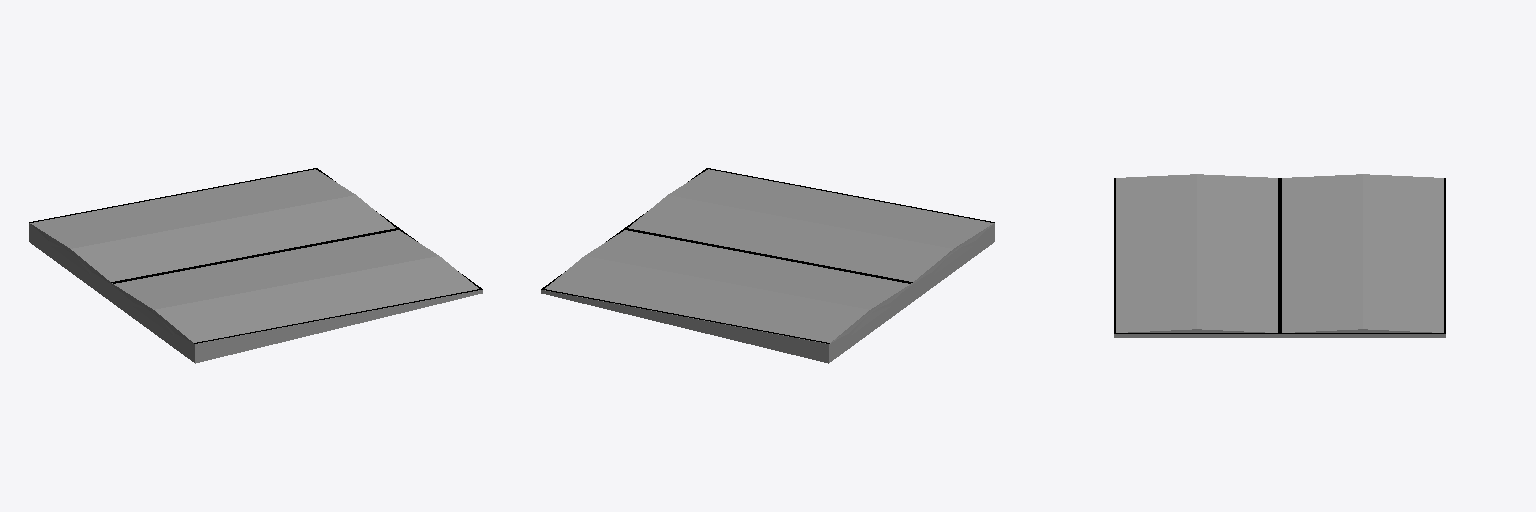
Rendered from WaterCapture.obj.
The picture shows the model from 3 angles: view 1: azimuth 30°, elevation 25°; view 2: azimuth 150°, elevation 25°; view 3: azimuth 270°, elevation 25°; orthographic projection.
Size of the model in its own units: 20 by 1.54 by 20.